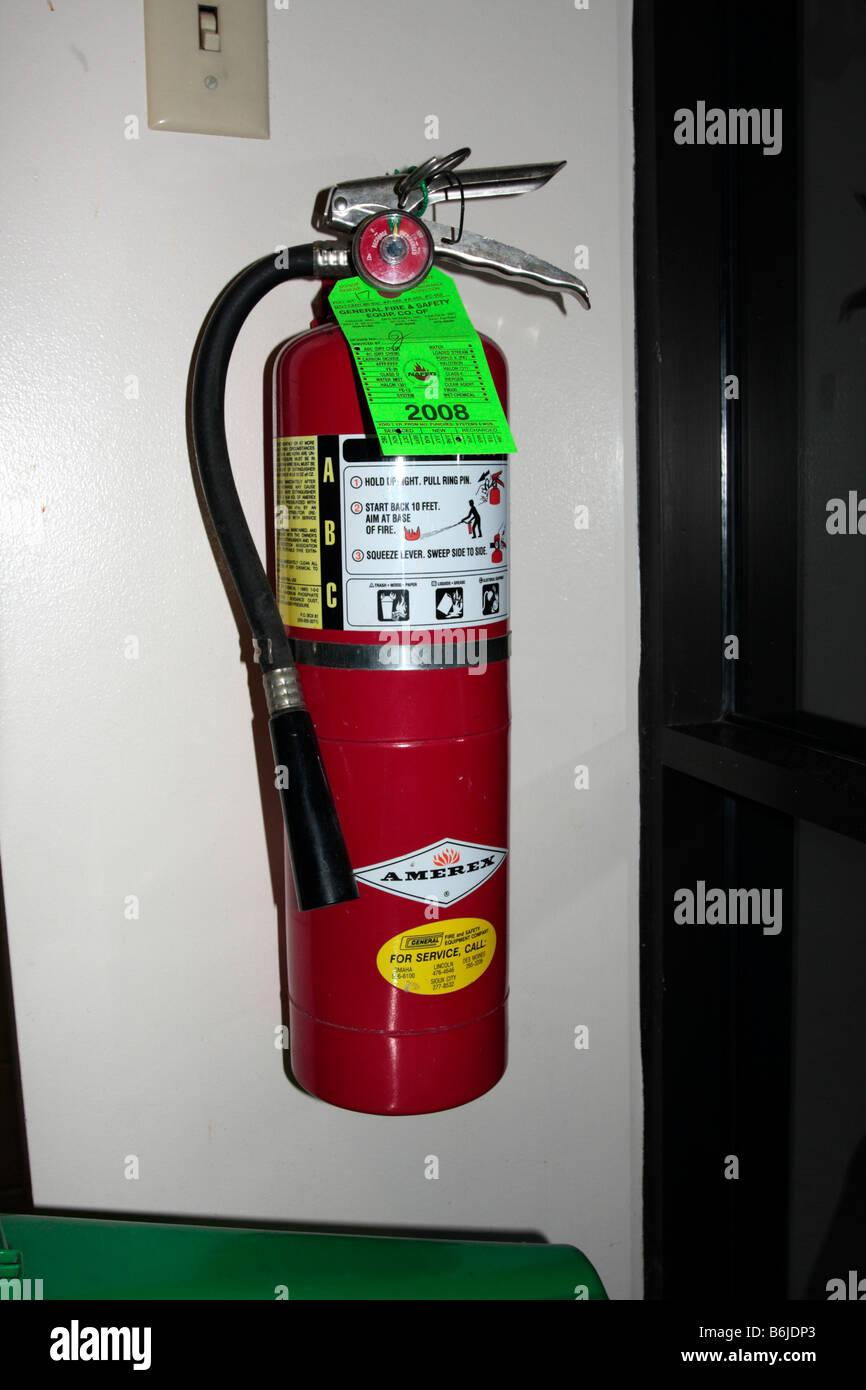wall-mounted: (106, 130, 576, 1154)
